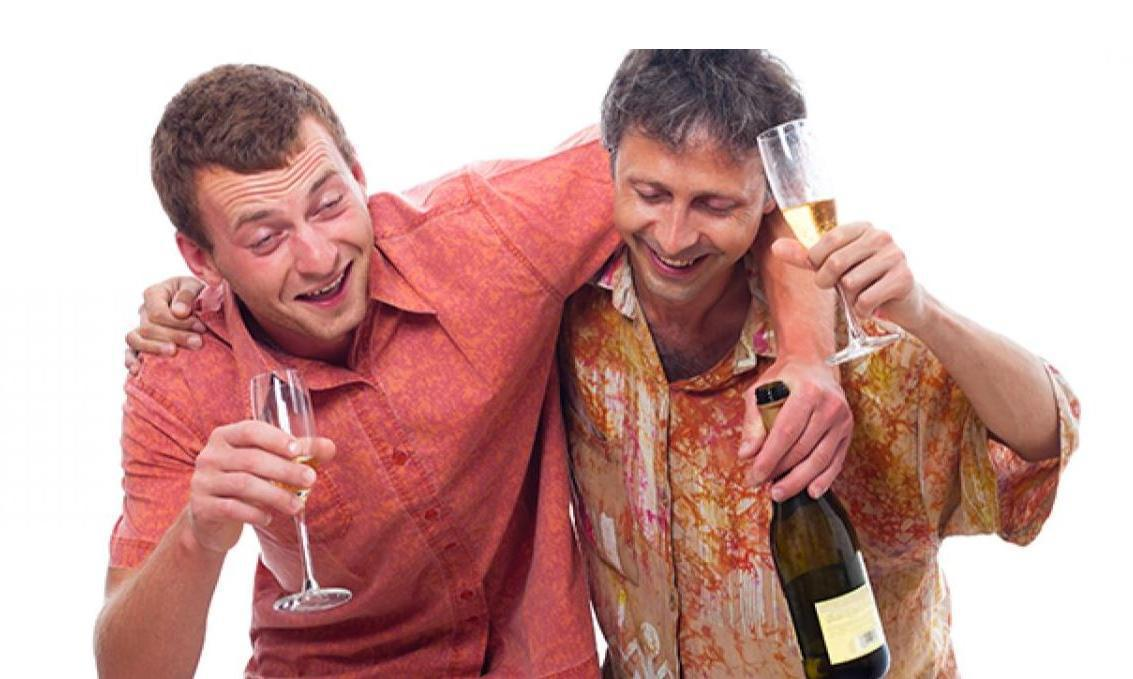Drunk: (199, 133, 374, 332), (611, 113, 758, 300)
